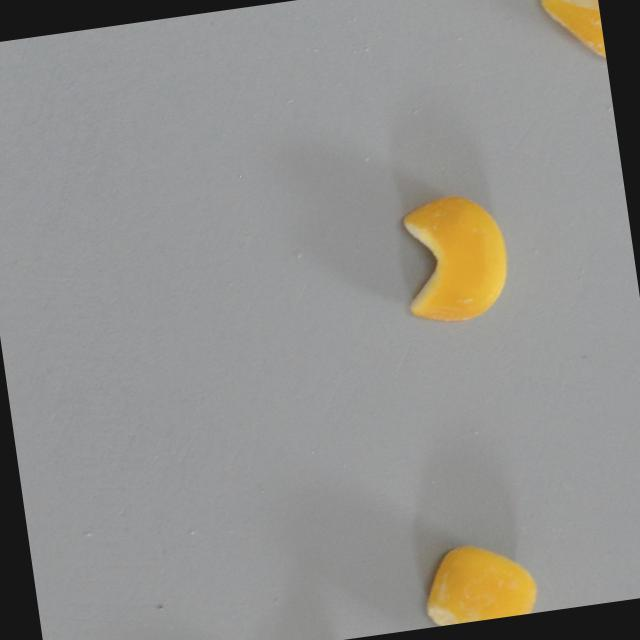no_canjicado: (394, 190, 515, 329), (416, 534, 541, 628)
pelicula: (540, 0, 607, 70)
